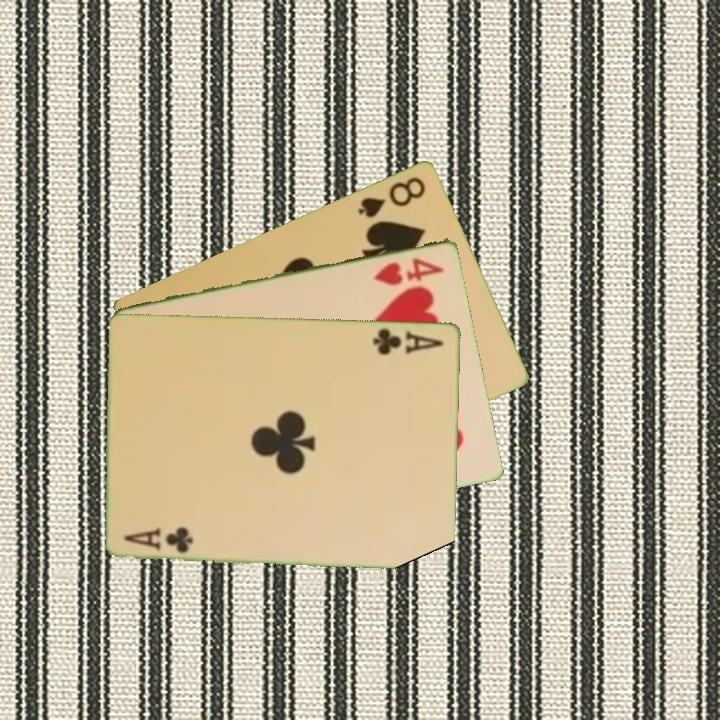4h: (370, 254, 447, 288)
8s: (354, 172, 429, 220)
Ac: (370, 325, 447, 358), (121, 523, 197, 556)
